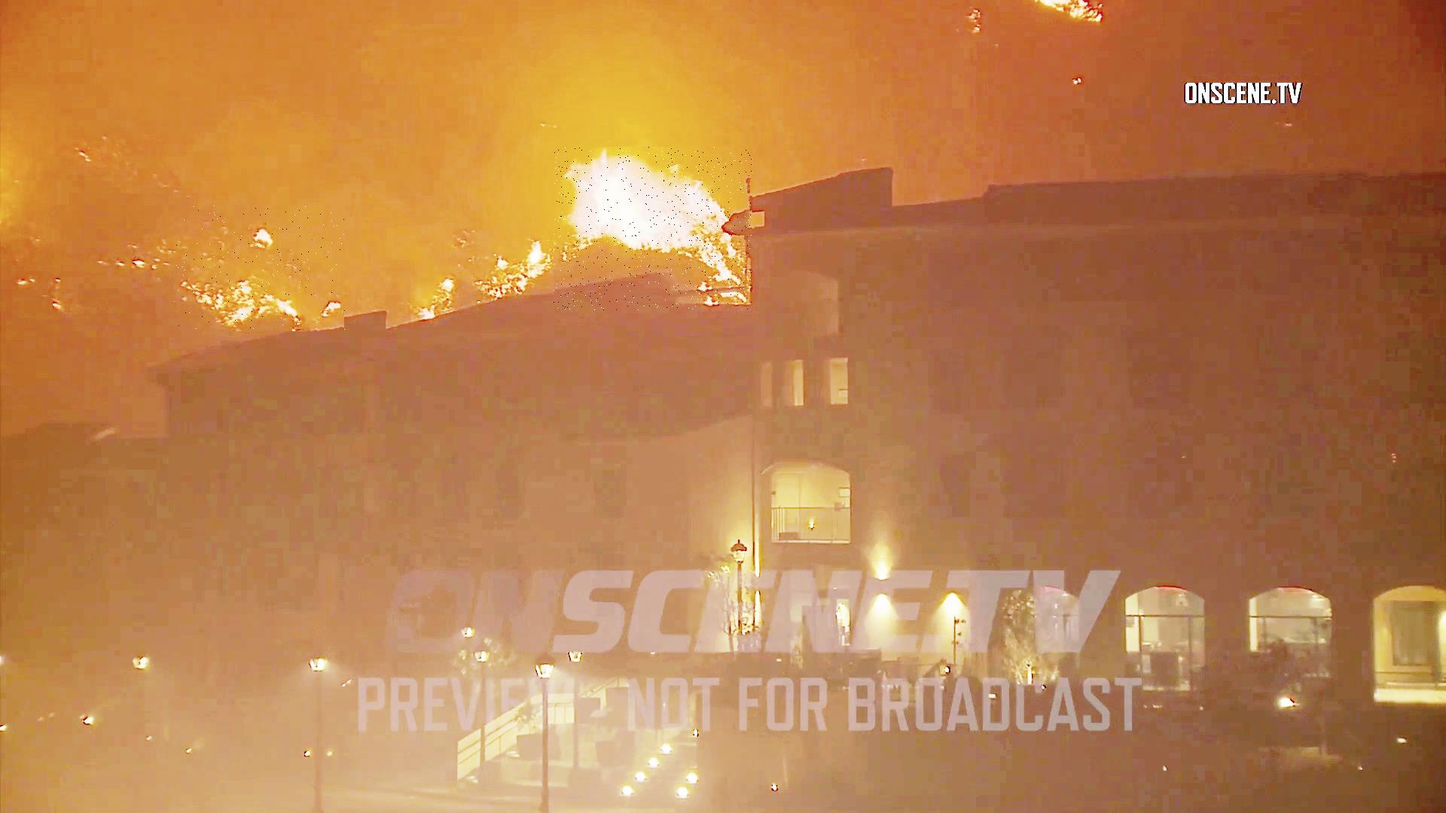fire: (554, 147, 753, 311), (174, 206, 347, 331)
